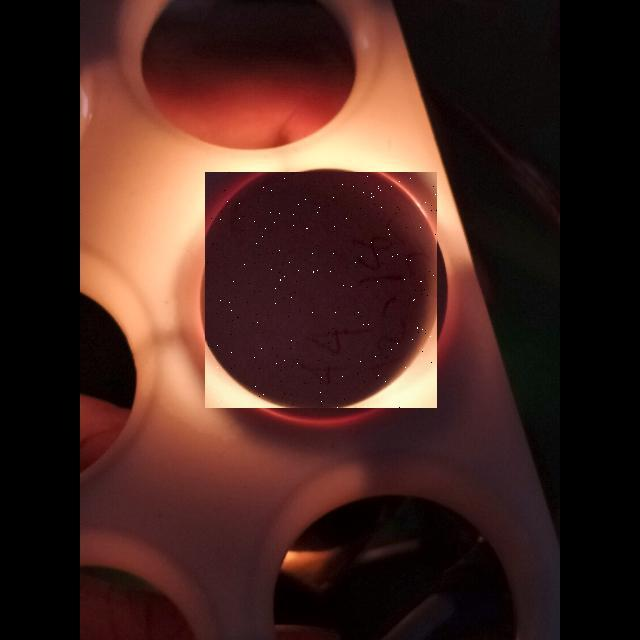Fertile: (205, 172, 437, 408)
